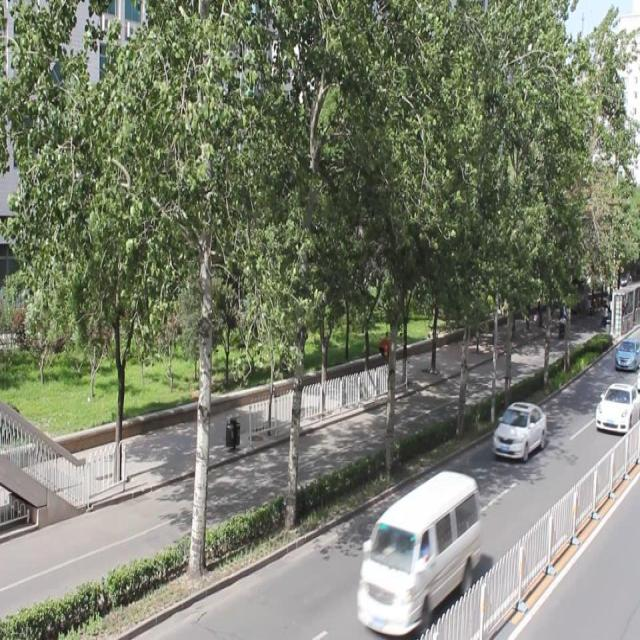car: (492, 399, 546, 461), (593, 379, 640, 435)
truck: (357, 469, 477, 632)
